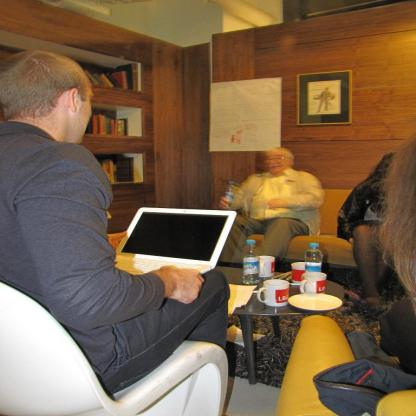board: (113, 201, 240, 278), (241, 238, 262, 284), (303, 241, 324, 271)
